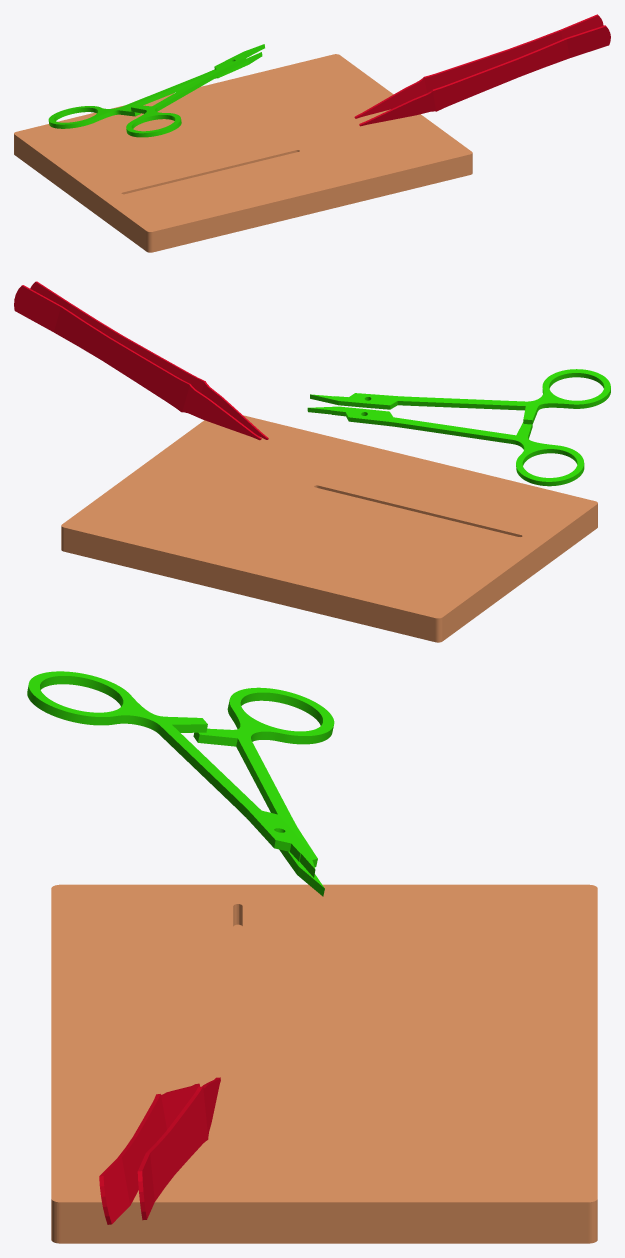
File: wrapping.gltf
3 renders of one model, top to bottom at view 1: azimuth 30°, elevation 25°; view 2: azimuth 150°, elevation 25°; view 3: azimuth 270°, elevation 25°, orthographic. The views are drawn at different scales.
Parts seen in each view (by area): view 1: S1, C1, D2, B1, A1; view 2: S1, D2, B1, A1, C1; view 3: S1, B1, A1, D2, C1.
Boxes of the visible parts, x1=… form: S1: x1=14, y1=54, x2=472, y2=252; C1: x1=359, y1=25, x2=610, y2=126; D2: x1=354, y1=14, x2=603, y2=118; B1: x1=126, y1=44, x2=264, y2=137; A1: x1=48, y1=52, x2=262, y2=128; S1: x1=61, y1=415, x2=597, y2=642; D2: x1=14, y1=285, x2=261, y2=440; B1: x1=310, y1=369, x2=610, y2=424; A1: x1=307, y1=406, x2=584, y2=486; C1: x1=30, y1=281, x2=268, y2=439; S1: x1=51, y1=884, x2=597, y2=1243; B1: x1=27, y1=671, x2=315, y2=877; A1: x1=193, y1=687, x2=334, y2=896; D2: x1=137, y1=1077, x2=220, y2=1220; C1: x1=99, y1=1083, x2=199, y2=1224.
Size of the model in its own units: 0.2624 by 0.061 by 0.1253.
